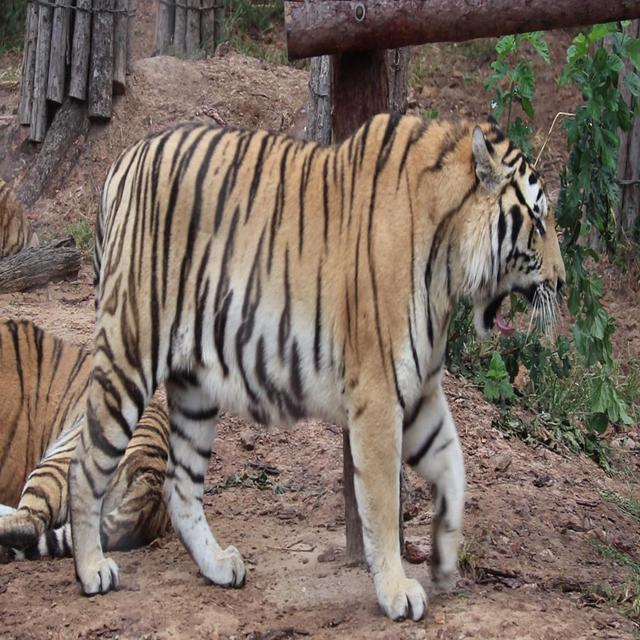tiger: (60, 102, 593, 623), (0, 312, 212, 630)
